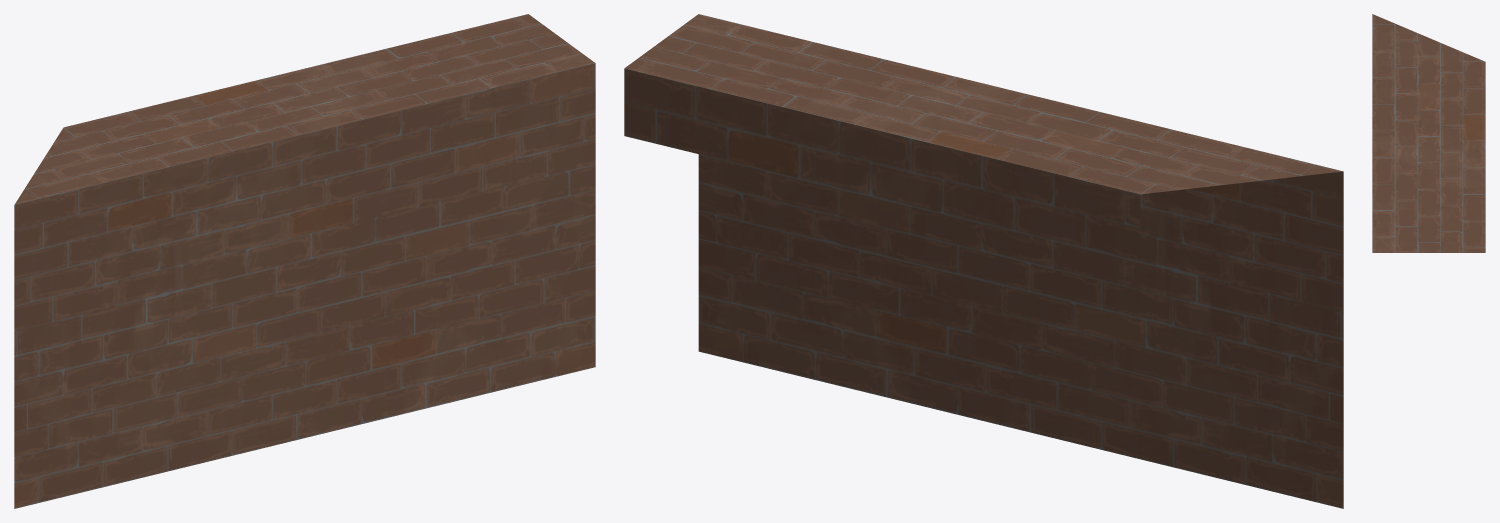
The model's file is Cornice_Brick_L.gltf.
3 renders of one model, left to right at view 1: azimuth 30°, elevation 25°; view 2: azimuth 150°, elevation 25°; view 3: azimuth 270°, elevation 25°, orthographic. The views are drawn at different scales.
Parts seen in each view (by area): view 1: Cornice_Brick_L; view 2: Cornice_Brick_L; view 3: Cornice_Brick_L.
Boxes of the visible parts, bbox=[...] form: Cornice_Brick_L: bbox=[14, 14, 595, 508]; Cornice_Brick_L: bbox=[624, 14, 1343, 508]; Cornice_Brick_L: bbox=[1372, 14, 1485, 252].
Bounding box in the file's own units: 2 × 1 × 0.4.
Materials: 1 (1 with a texture image).
